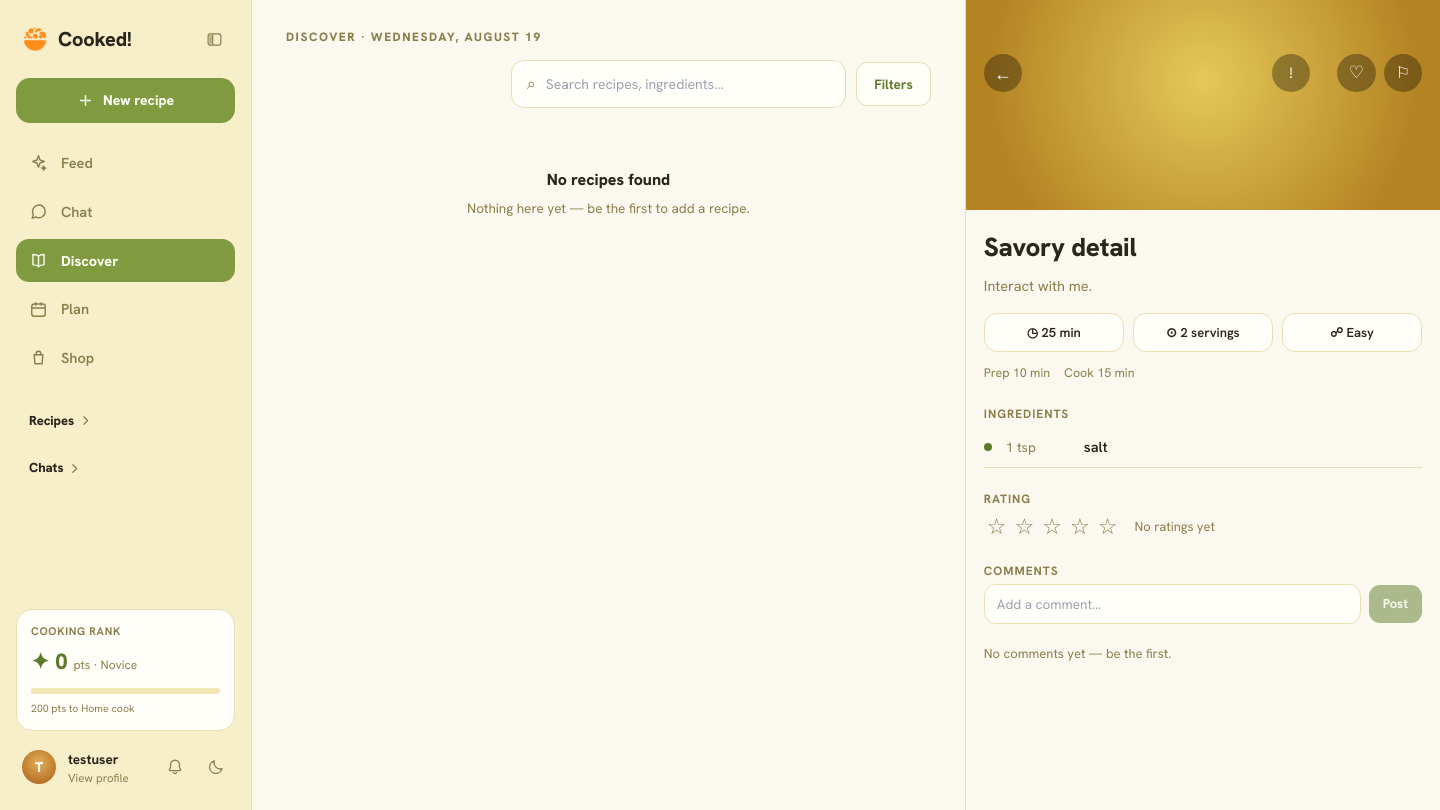
Test: RecipeDetailPage social adoption › saves from the detail header through the shared hook
What coordinates should you click on to do the following:
click the button named "Save recipe"
I would click on:
 (1403, 73)
Its box is [1384,54,1422,92].
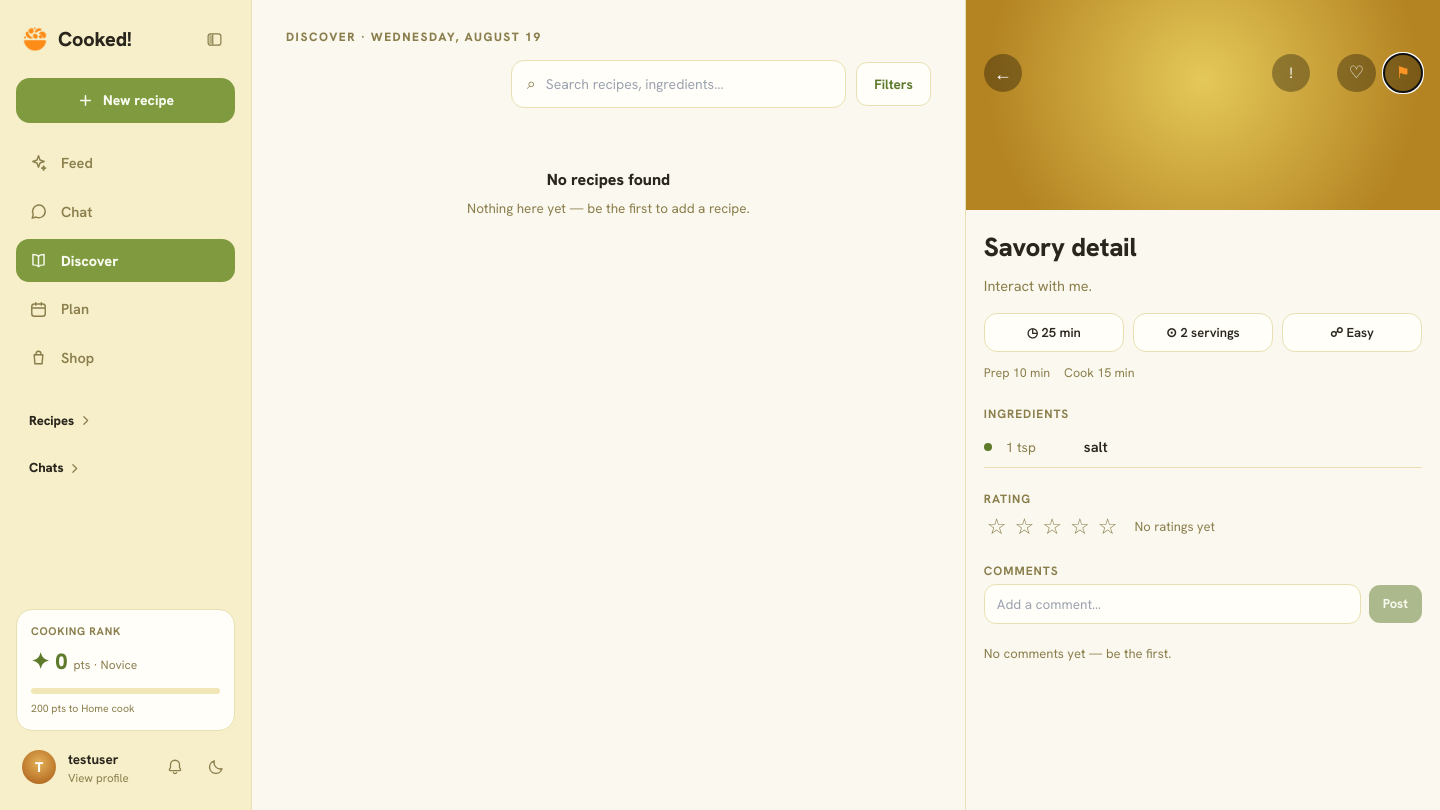
Now the button named "Remove from saved" is shown, box [1384,54,1422,92]
